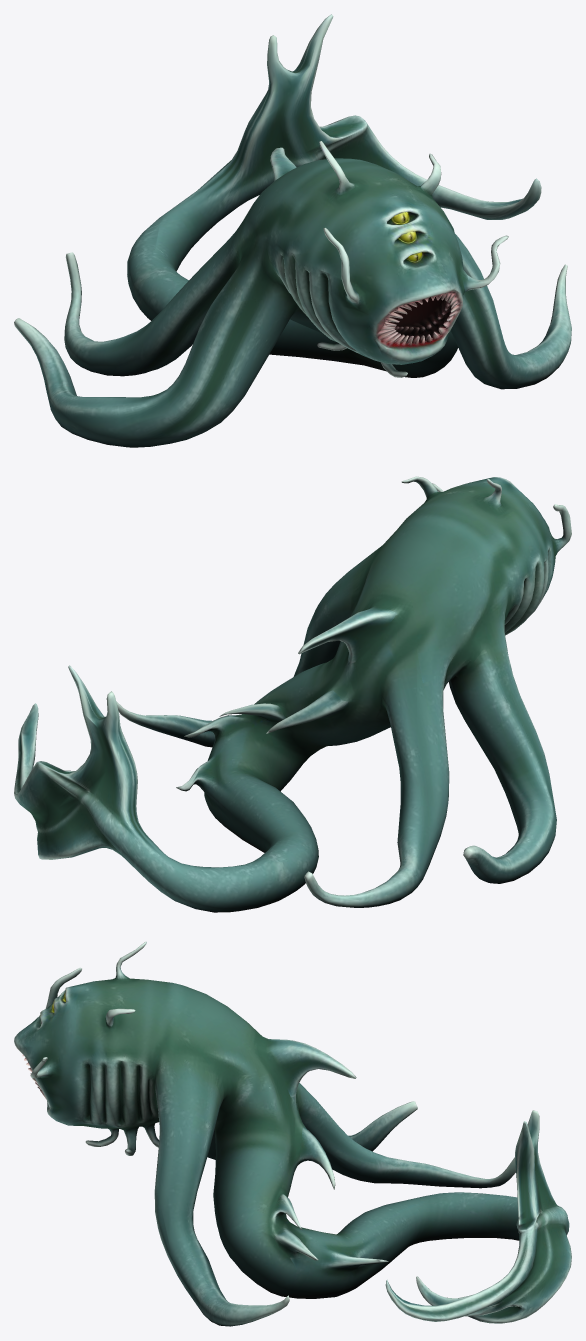
Rendered from Aboleth.glb.
3 views of the same model, one above another, from view 1: azimuth 30°, elevation 25°; view 2: azimuth 150°, elevation 25°; view 3: azimuth 270°, elevation 25° (orthographic). The views are drawn at different scales.
Parts seen in each view (by area): view 1: body_low.001; view 2: body_low.001; view 3: body_low.001.
Boxes of the visible parts, x1,y1,x2,y2 form: body_low.001: (14,14,571,447); body_low.001: (14,476,571,912); body_low.001: (14,941,571,1326).
Bounding box in the file's own units: 9.88 × 6.17 × 10.94.
Materials: 1 (1 with a texture image).
